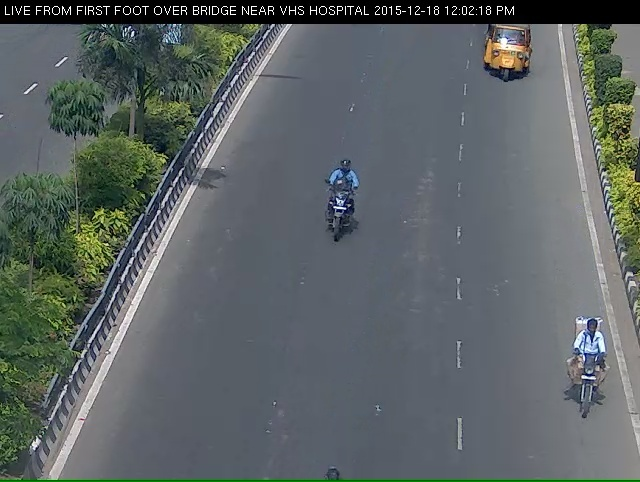Auto: (472, 25, 539, 93)
Person: (563, 322, 611, 437), (312, 182, 358, 278)
